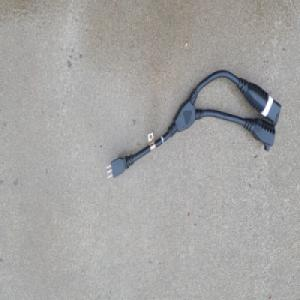Wire: (104, 68, 281, 181)
